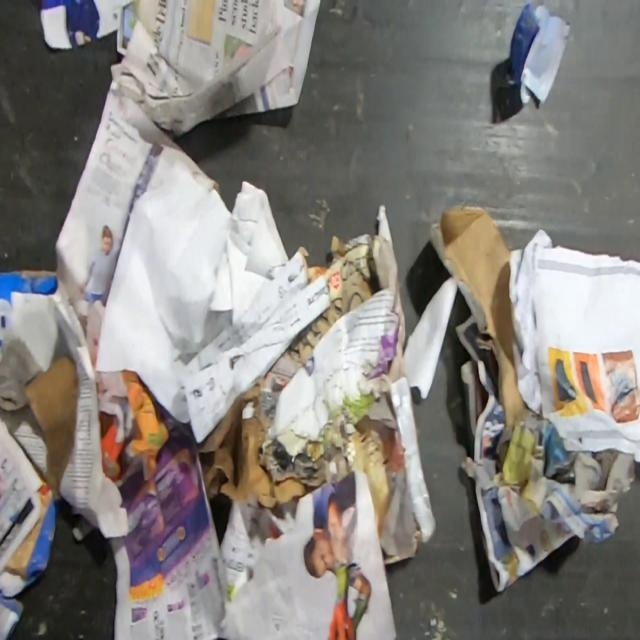cardboard: (428, 204, 528, 431), (0, 481, 58, 640), (0, 267, 58, 349)
rigid_plastic: (508, 0, 571, 109)
